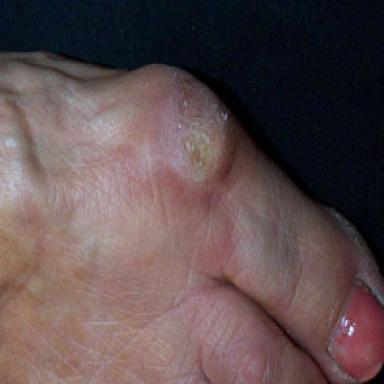eczema: (158, 80, 235, 193)
